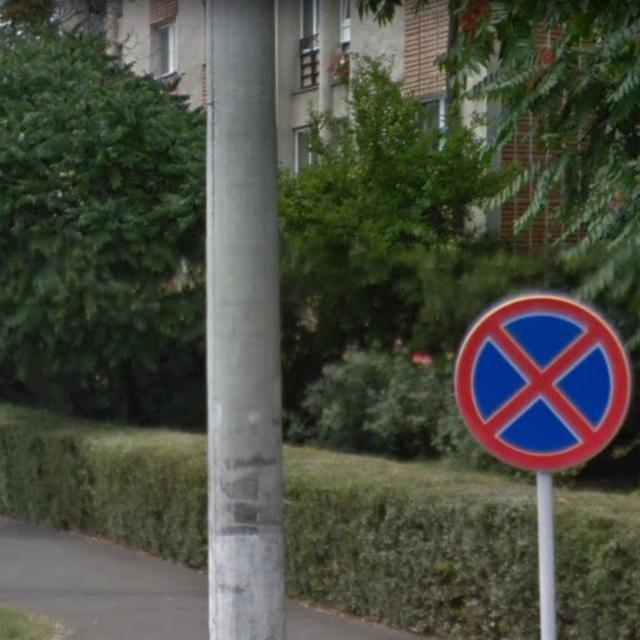forb_waiting: (452, 296, 629, 471)
